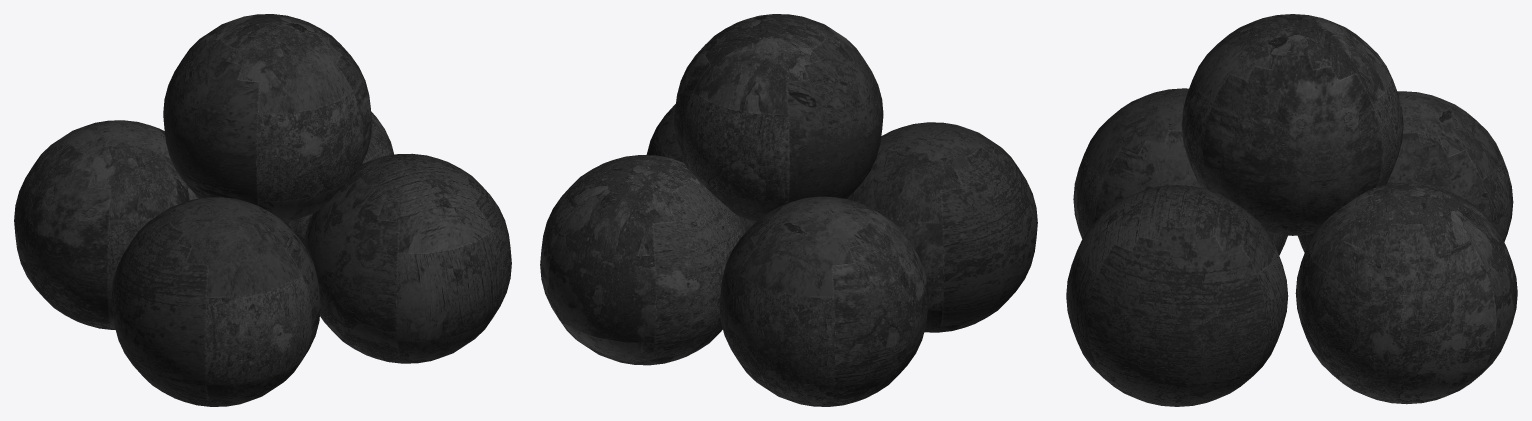
The model's file is CannonBall.fbx.
The picture shows the model from 3 angles, left to right: view 1: azimuth 30°, elevation 25°; view 2: azimuth 150°, elevation 25°; view 3: azimuth 270°, elevation 25°; orthographic projection. The views are drawn at different scales.
Visible parts, largest first — view 1: CannonBall; view 2: CannonBall; view 3: CannonBall.
Part boxes in pixels (bbox=[...]): CannonBall: bbox=[14, 14, 511, 406]; CannonBall: bbox=[540, 14, 1037, 406]; CannonBall: bbox=[1066, 14, 1517, 406].
Bounding box in the file's own units: 4.06 × 3.27 × 4.07.
